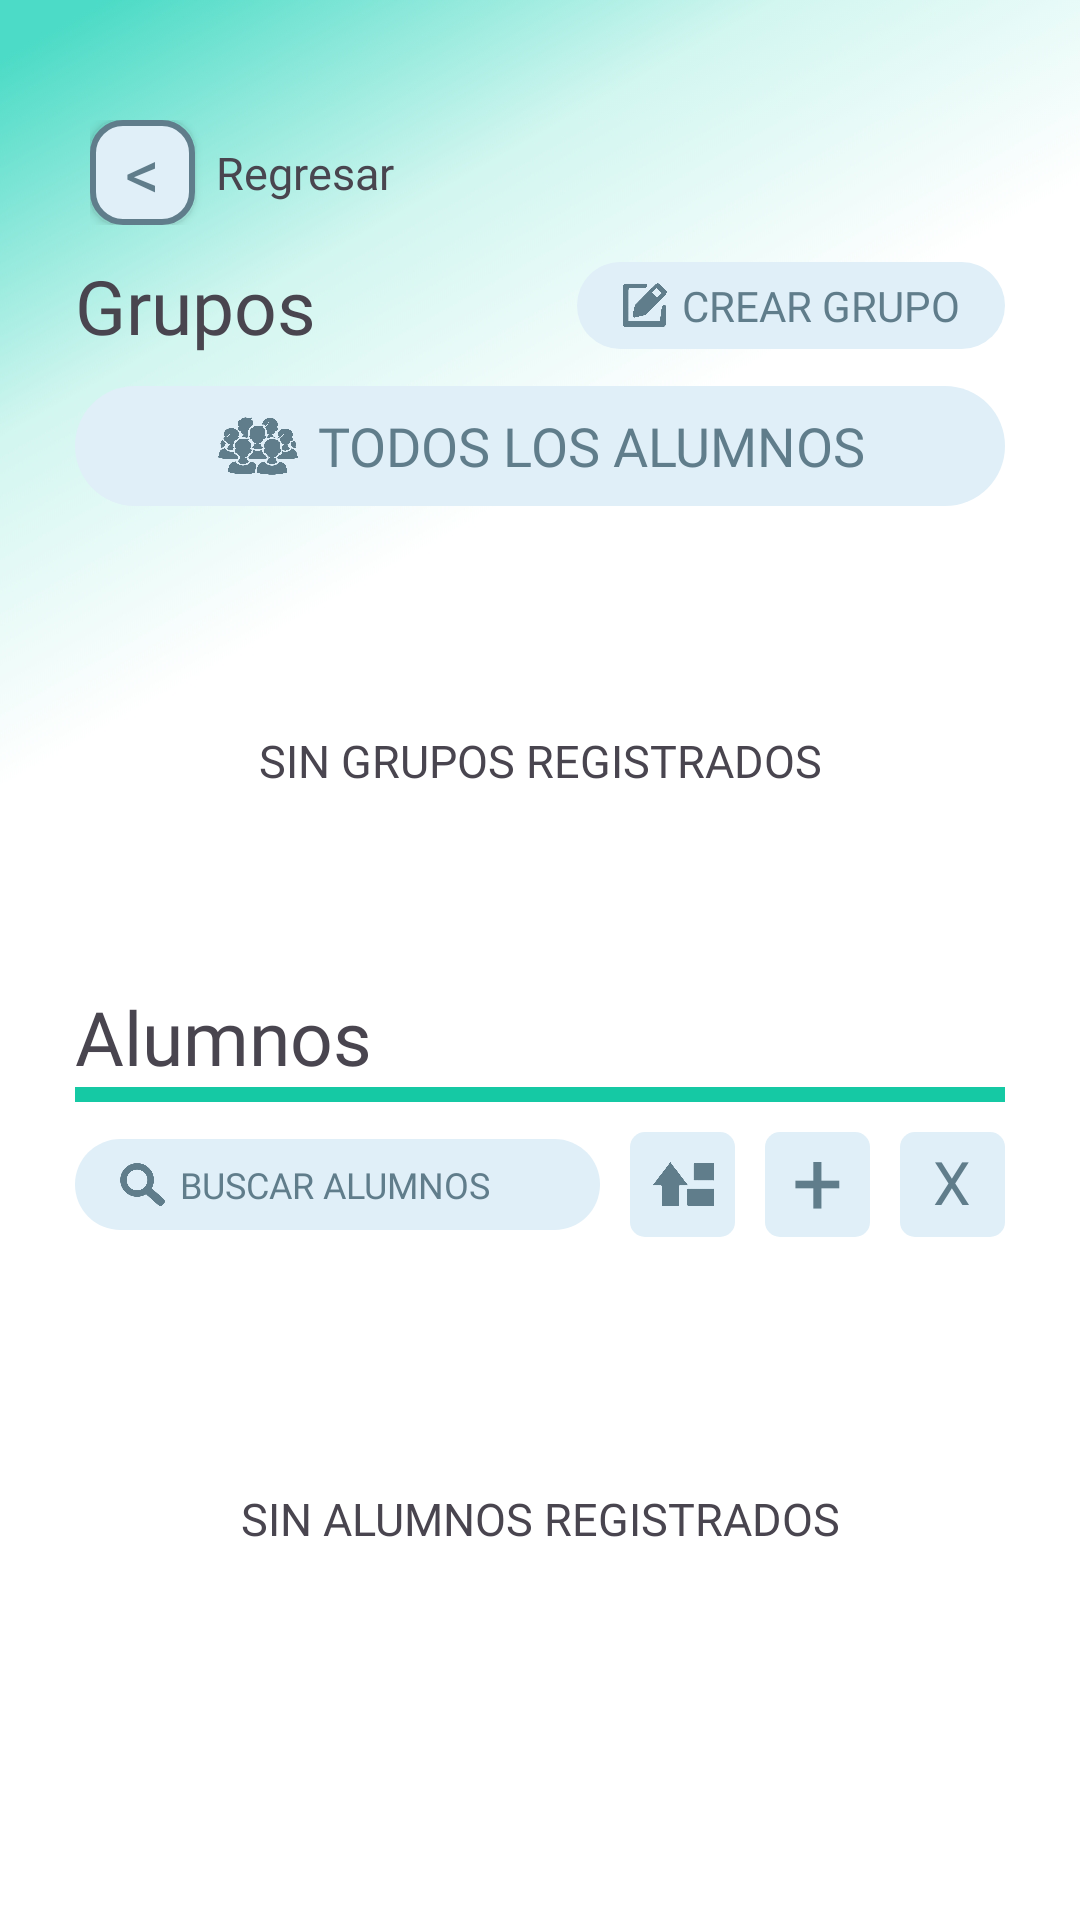

Named icons in this screenshot (1080px×1920px) and their bounding boxes, (x1=x1, y1=y1, x2=x2, y2=y2):
editar: (x1=623, y1=283, x2=667, y2=327)
ordenar: (x1=630, y1=1132, x2=735, y2=1237)
